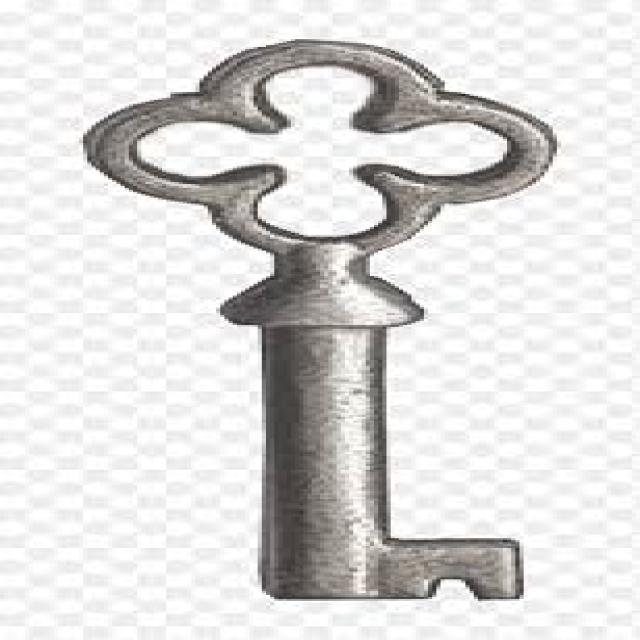key: (51, 18, 608, 628)
